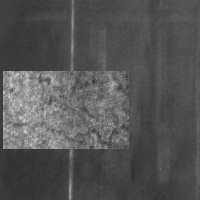crazing: (3, 71, 129, 149)
scratches: (64, 2, 77, 200)
